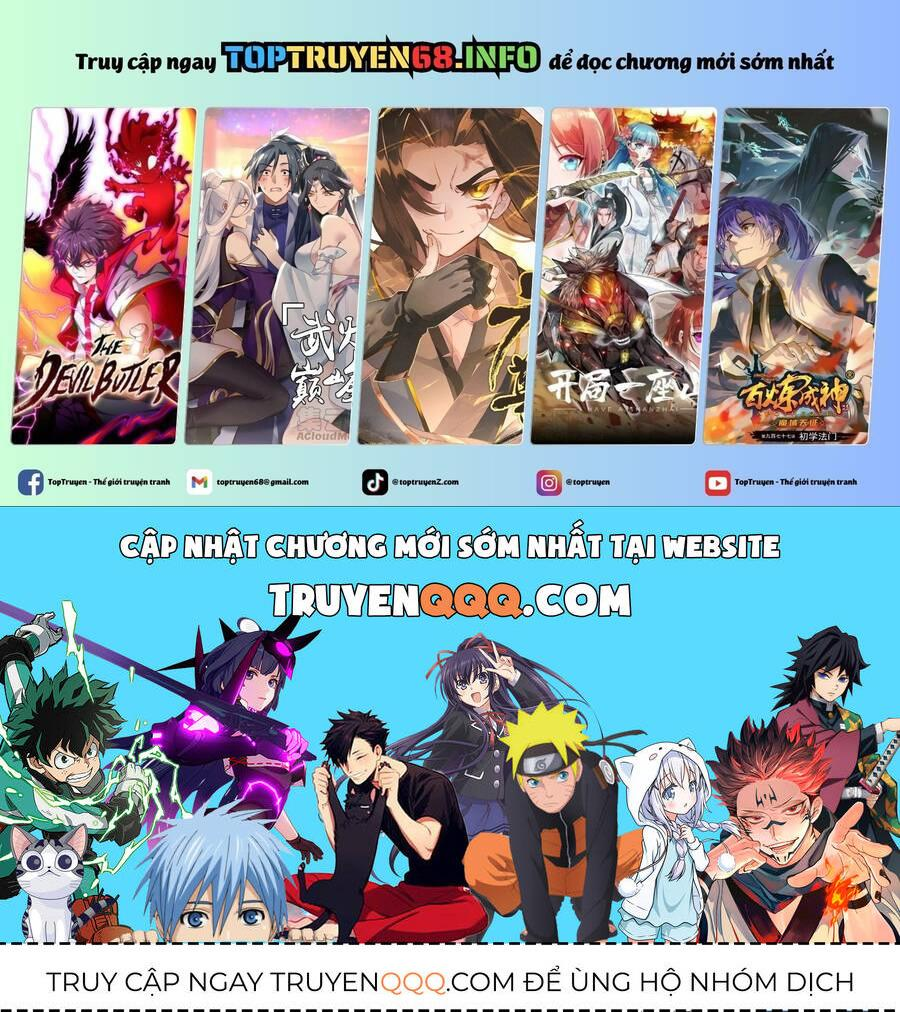quangcao: (3, 1, 900, 1011)
